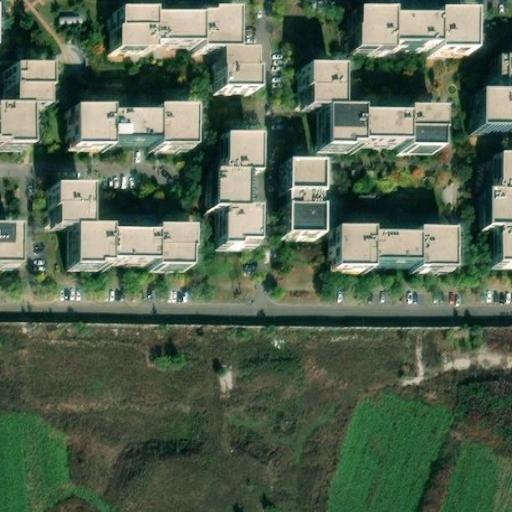building: (204, 141, 253, 252), (111, 15, 231, 57), (319, 112, 436, 153), (328, 235, 447, 275), (67, 233, 183, 274), (69, 112, 187, 152), (350, 16, 469, 55), (471, 62, 512, 134), (278, 168, 316, 241), (479, 155, 512, 230), (47, 190, 85, 233), (211, 57, 251, 97), (5, 71, 42, 112), (300, 71, 336, 112), (489, 226, 512, 267)
